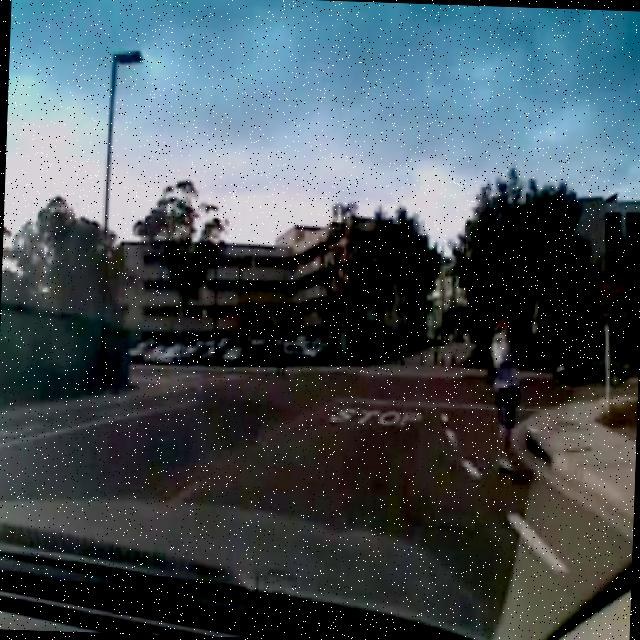Stop: (587, 266, 626, 320)
